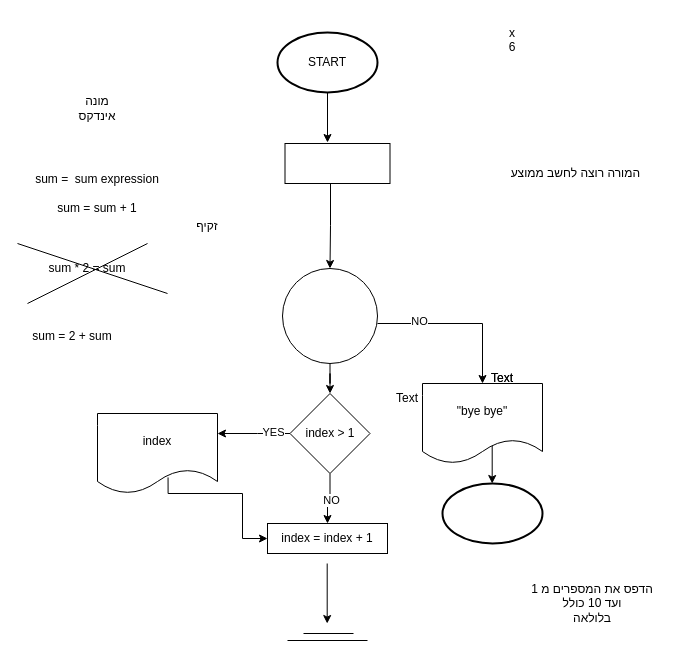
Image size: 675x659. Some labels were removed from this diagram. Here are the shapes that lost their labels. From the top down, the centre of each, then its label:
At (x=337, y=163): "index = 0".
At (x=330, y=316): "index < 10".
At (x=492, y=513): "STOP".
